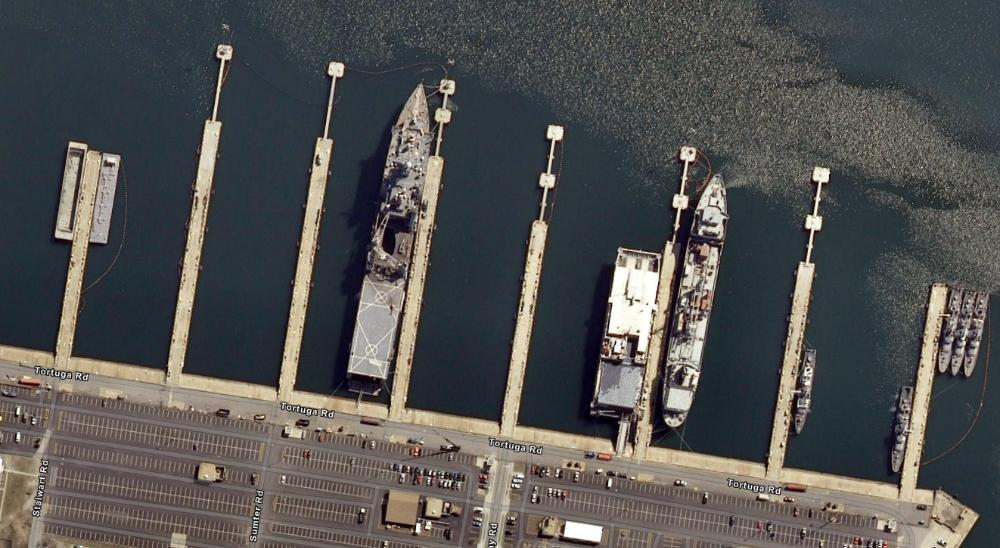amphiby: (345, 82, 433, 389)
supply: (659, 146, 729, 431)
